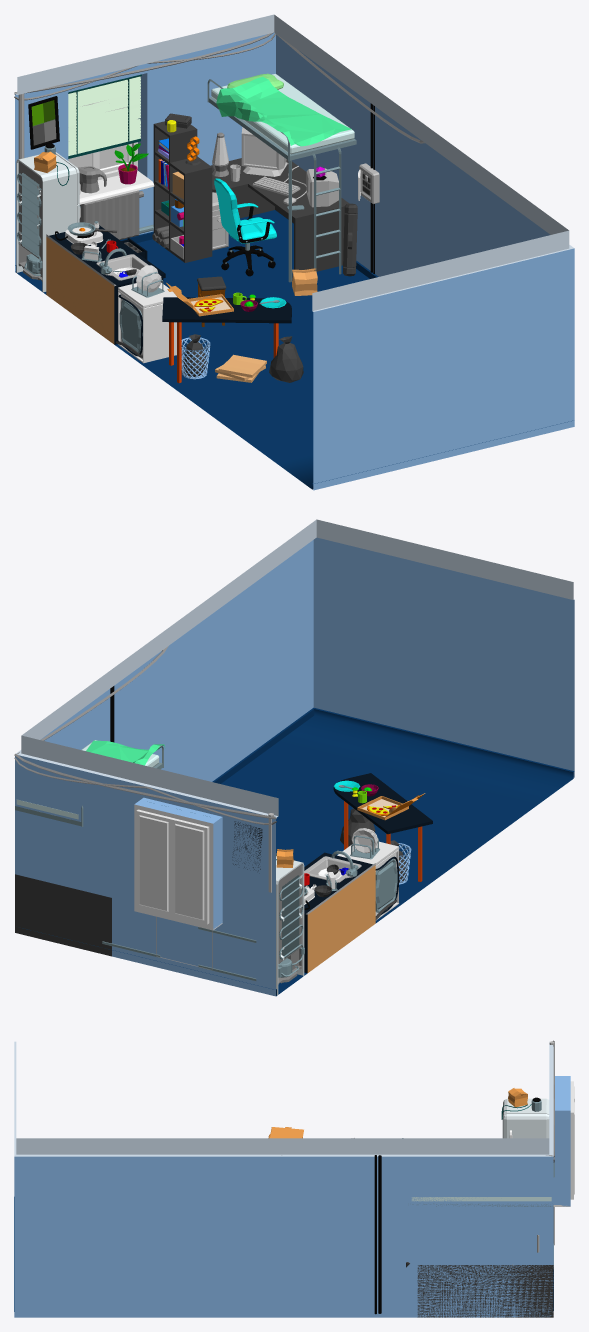
Rendered from doctor room_no interactive desk.fbx.
3 views of the same model, one above another, from view 1: azimuth 30°, elevation 25°; view 2: azimuth 150°, elevation 25°; view 3: azimuth 270°, elevation 25° (orthographic). The views are drawn at different scales.
Visible parts, largest first — view 1: Box010.001, Box010.005; view 2: Box010.001, Box010.005; view 3: Box010.001, Box010.005.
Boxes of the visible parts, bbox=[...] form: Box010.001: bbox=[14, 14, 574, 490]; Box010.005: bbox=[166, 282, 233, 316]; Box010.001: bbox=[14, 519, 574, 996]; Box010.005: bbox=[357, 793, 425, 820]; Box010.001: bbox=[14, 1040, 574, 1317]; Box010.005: bbox=[268, 1127, 303, 1138].
Bounding box in the file's own units: 1434 × 1024 × 2884.
Materials: 7 (1 with a texture image).
